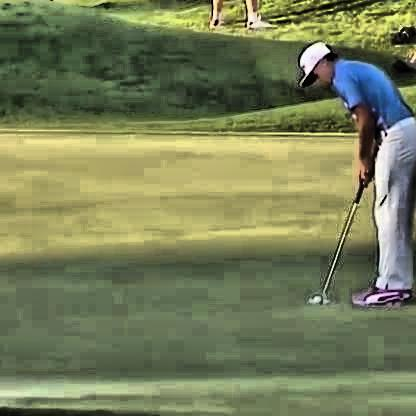golfball: (308, 295, 319, 305)
